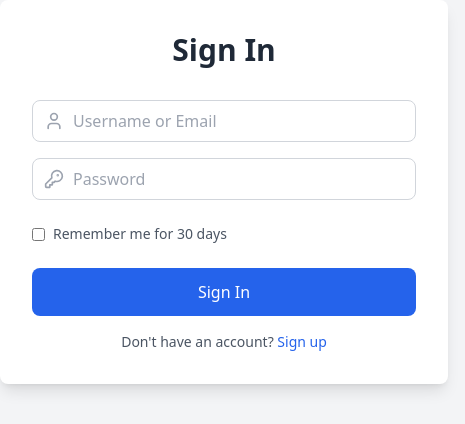
AuthForm › switches to registration form
Click the button "Sign up": (302,342) x1=277 y1=332 x2=327 y2=352
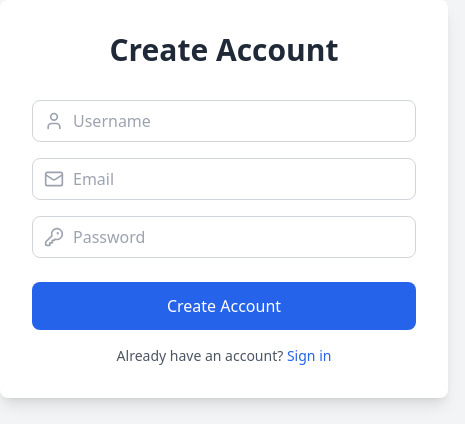
expect the heading "Create Account" is shown: met, box x1=110 y1=29 x2=339 y2=70
expect the field with placeholder "Email" is shown: met, box x1=32 y1=158 x2=416 y2=200
